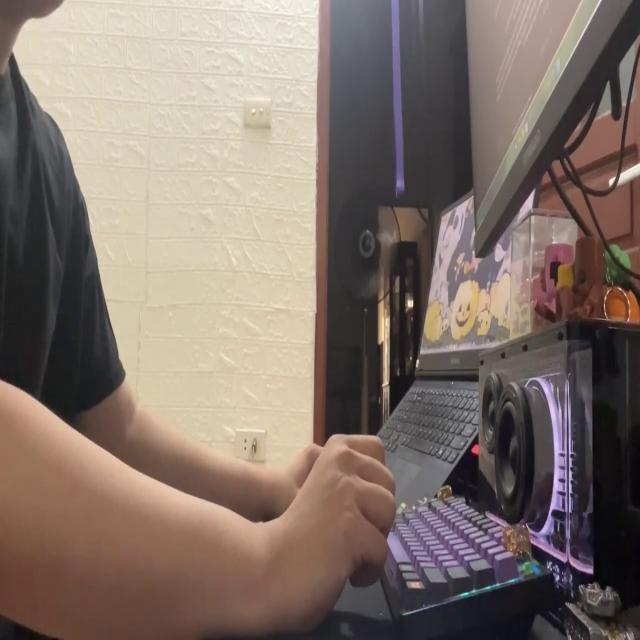laptop: (363, 162, 546, 510), (461, 0, 640, 255)
student: (0, 0, 396, 640)
